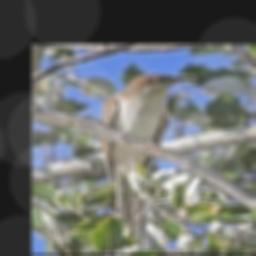Cuckoo: (100, 75, 197, 244)
